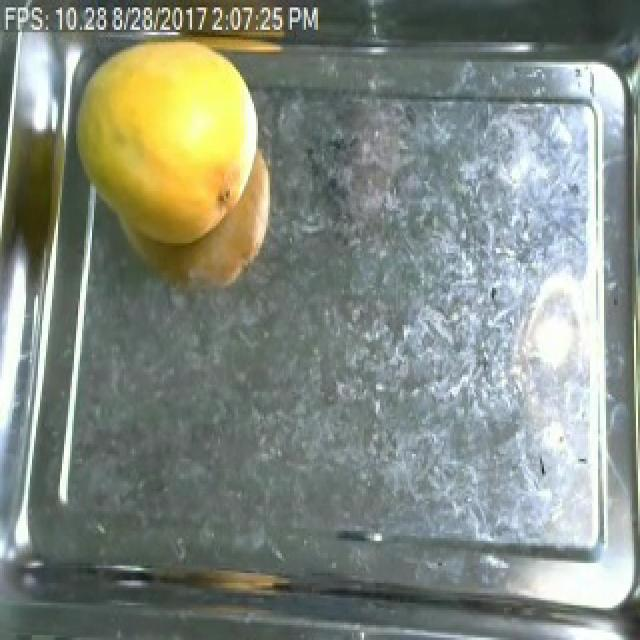fruit: (66, 30, 272, 258)
